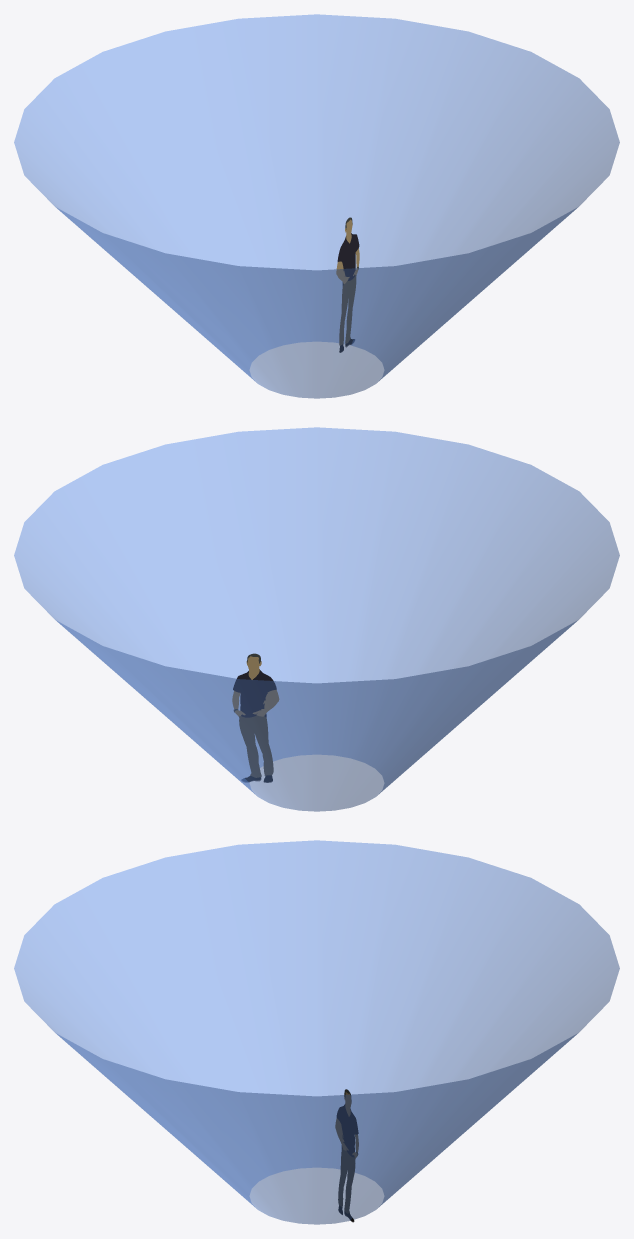
Rendered from funnel.fbx.
The picture shows the model from 3 angles, top to bottom: view 1: azimuth 30°, elevation 25°; view 2: azimuth 150°, elevation 25°; view 3: azimuth 270°, elevation 25°; orthographic projection.
Visible parts, largest first — view 1: Component1, Chris1; view 2: Component1, Chris1; view 3: Component1, Chris1.
Part boxes in pixels (x1=…): Component1: x1=14, y1=14, x2=619, y2=398; Chris1: x1=336, y1=217, x2=359, y2=352; Component1: x1=14, y1=427, x2=619, y2=811; Chris1: x1=232, y1=653, x2=279, y2=782; Component1: x1=14, y1=840, x2=619, y2=1224; Chris1: x1=335, y1=1089, x2=358, y2=1222.
Size of the model in its own units: 7.5 by 3.11 by 7.5.
